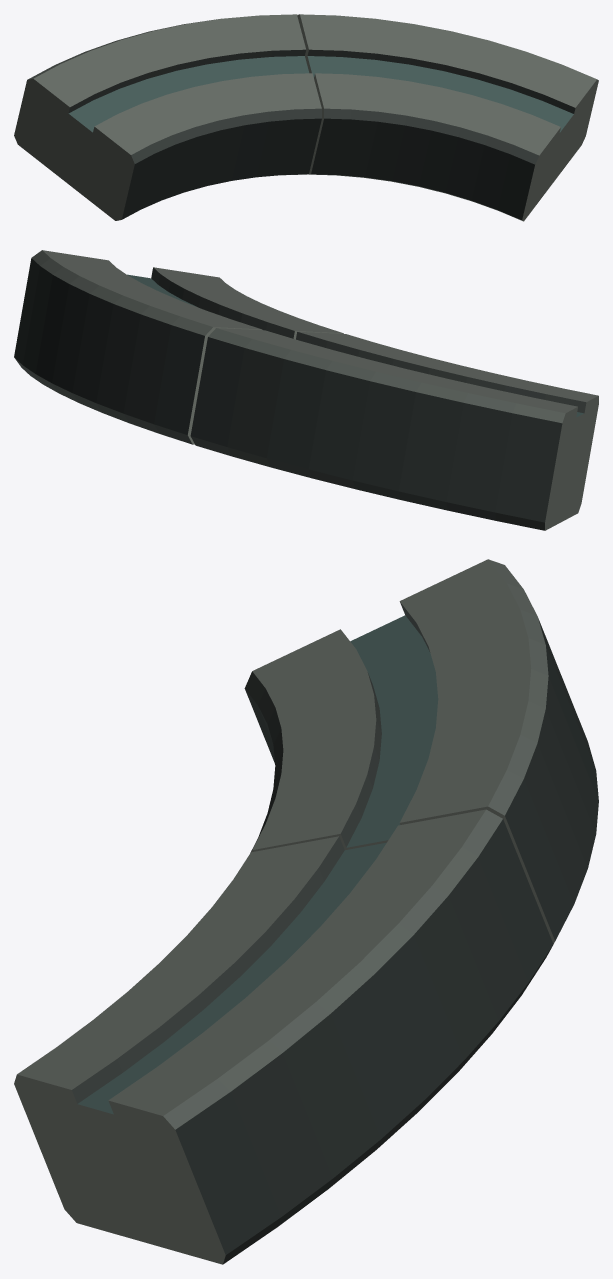
File: d01_ceremonial_ring_fragment.glb
3 renders of one model, top to bottom at view 1: azimuth 30°, elevation 25°; view 2: azimuth 150°, elevation 25°; view 3: azimuth 270°, elevation 25°, orthographic. The views are drawn at different scales.
Visible parts, largest first — view 1: D01_ExactL04ArcModule_02, D01_ExactL04ArcModule_01; view 2: D01_ExactL04ArcModule_02, D01_ExactL04ArcModule_01; view 3: D01_ExactL04ArcModule_01, D01_ExactL04ArcModule_02.
Part boxes in pixels (box(x1,y1,x2,y2)): D01_ExactL04ArcModule_02: box(14, 14, 321, 220); D01_ExactL04ArcModule_01: box(297, 14, 598, 221); D01_ExactL04ArcModule_02: box(190, 328, 598, 530); D01_ExactL04ArcModule_01: box(14, 250, 343, 444); D01_ExactL04ArcModule_01: box(14, 809, 553, 1264); D01_ExactL04ArcModule_02: box(244, 559, 598, 951).
Bounding box in the file's own units: 5.57 × 1.81 × 3.02.
